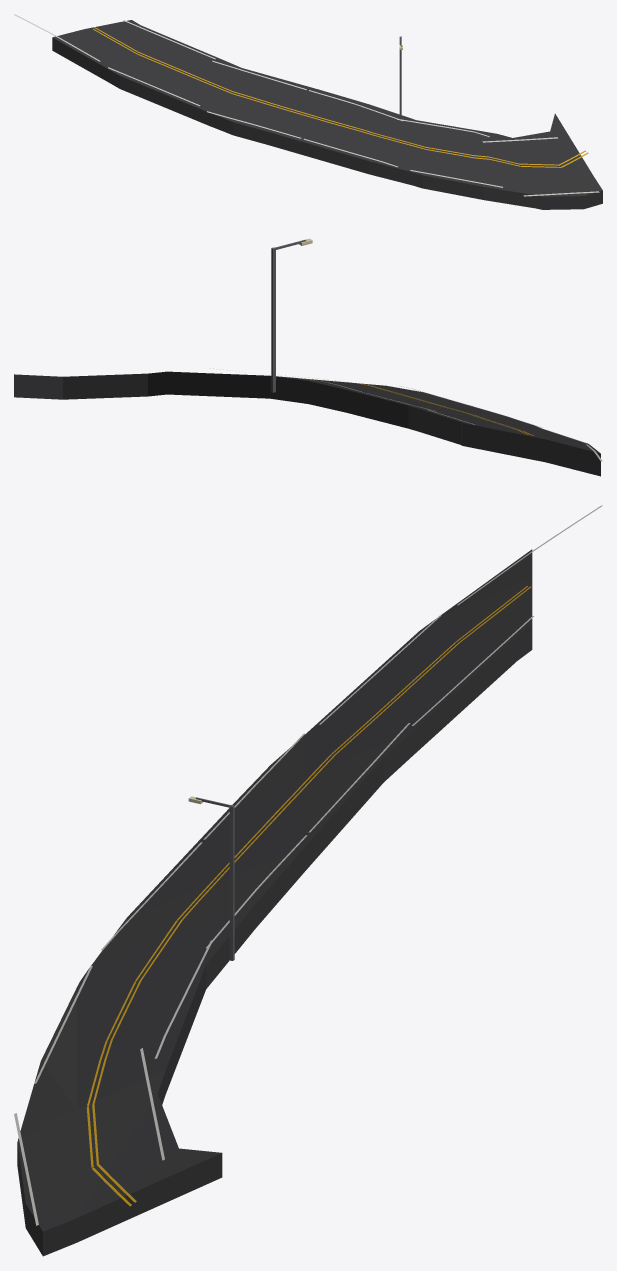
3 renders of one model, top to bottom at view 1: azimuth 30°, elevation 25°; view 2: azimuth 150°, elevation 25°; view 3: azimuth 270°, elevation 25°, orthographic. The views are drawn at different scales.
Bounding box in the file's own units: 42.72 × 17.02 × 25.95.
